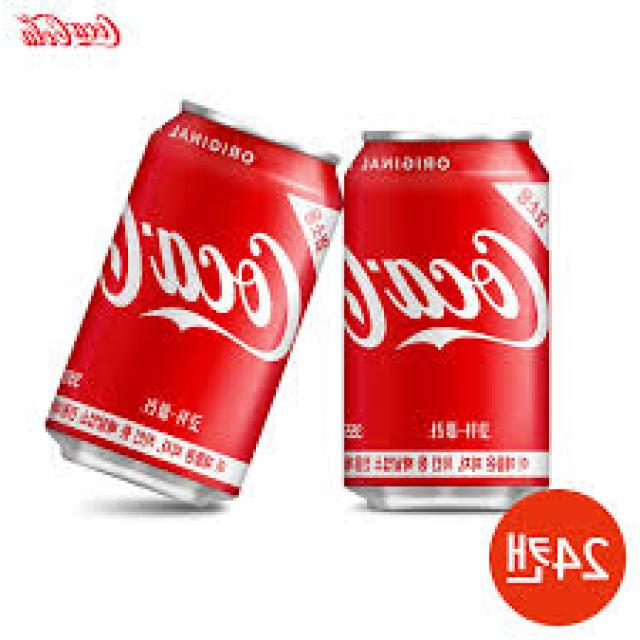Coca-Cola: (33, 99, 341, 518), (338, 109, 559, 520)
